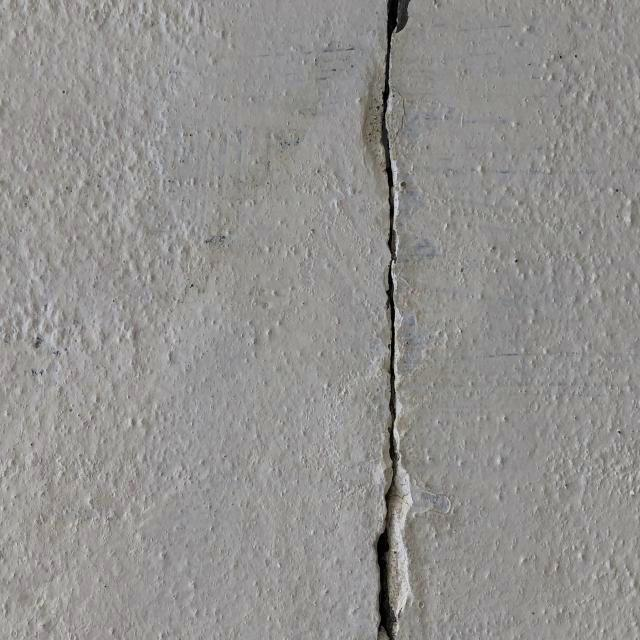SurfaceCrack: (318, 0, 459, 640)
